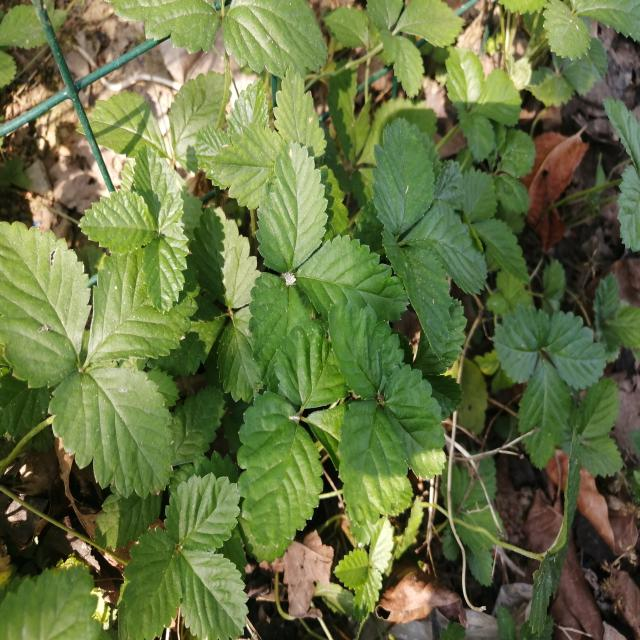Mock_strawberry: (0, 174, 215, 477), (239, 151, 406, 355), (310, 301, 448, 537), (103, 478, 264, 640), (494, 301, 621, 480)
